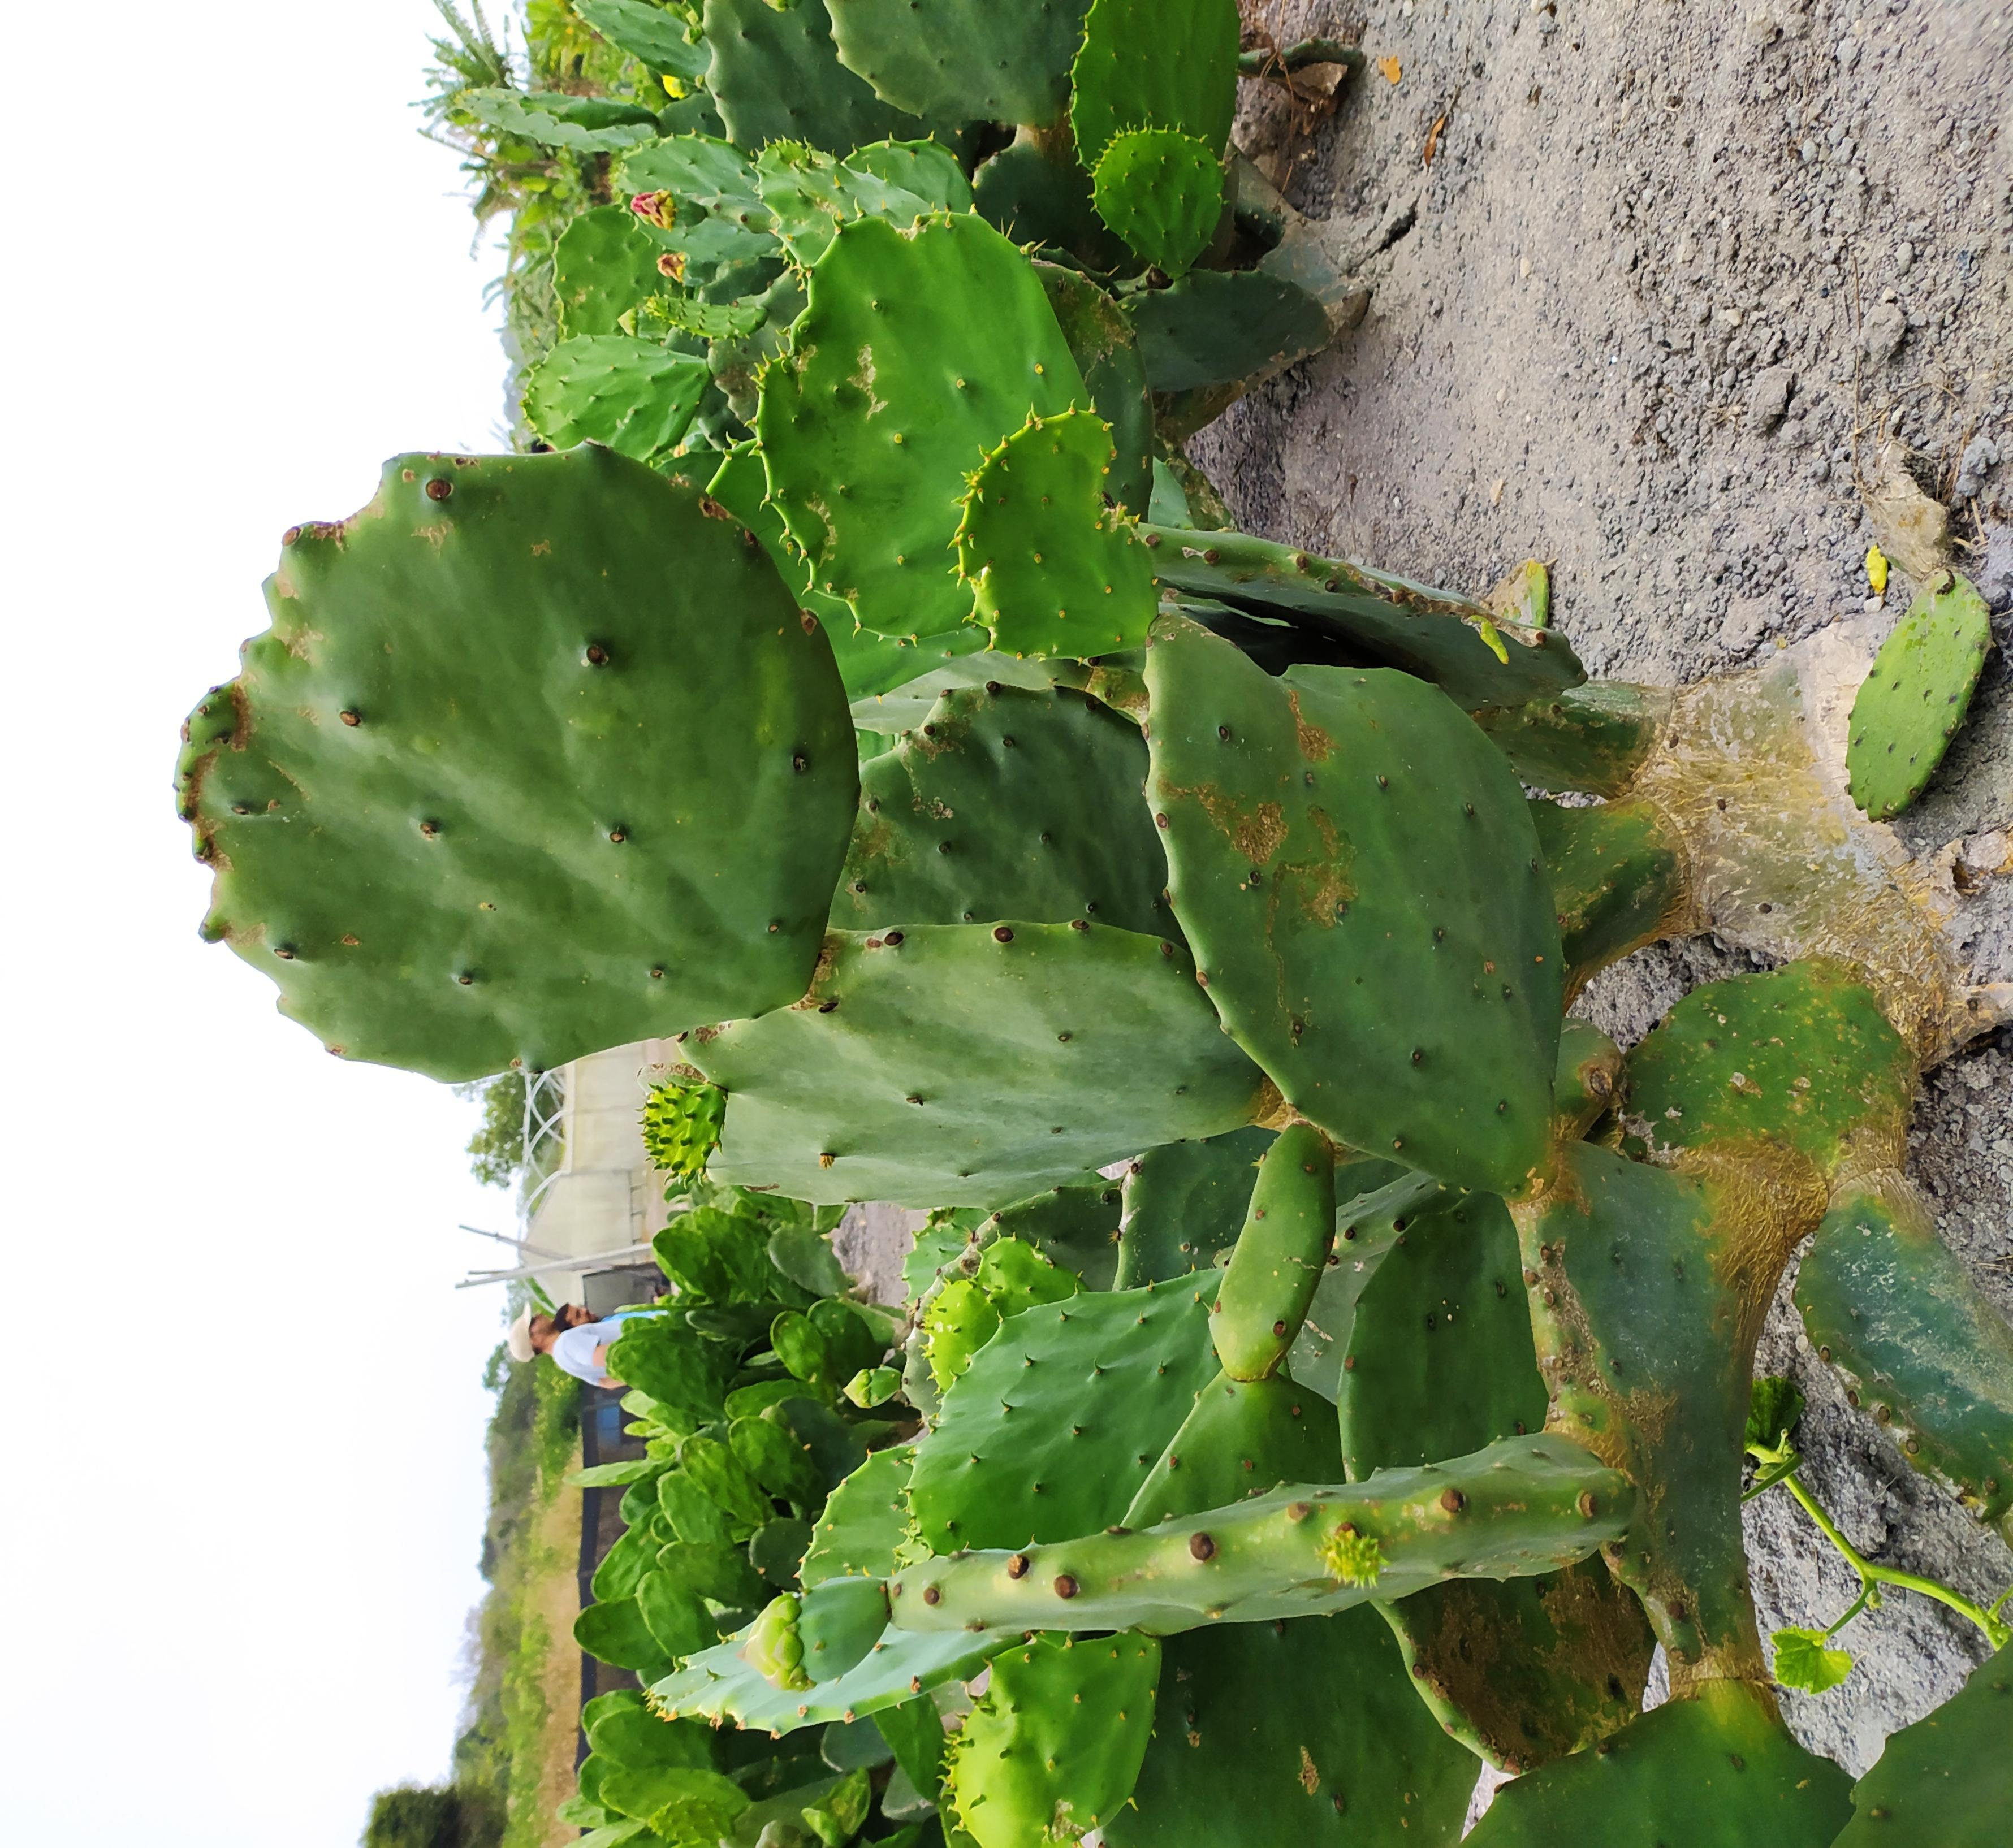impropria: (1159, 627, 1565, 1196), (856, 681, 1179, 903), (902, 1634, 1195, 1848), (1094, 136, 1247, 280), (557, 211, 688, 336), (552, 347, 724, 435)
propria: (179, 464, 862, 1089), (750, 215, 1155, 681), (650, 916, 1292, 1209), (882, 1425, 1647, 1641), (918, 1228, 1399, 1535), (1072, 7, 1262, 114)
